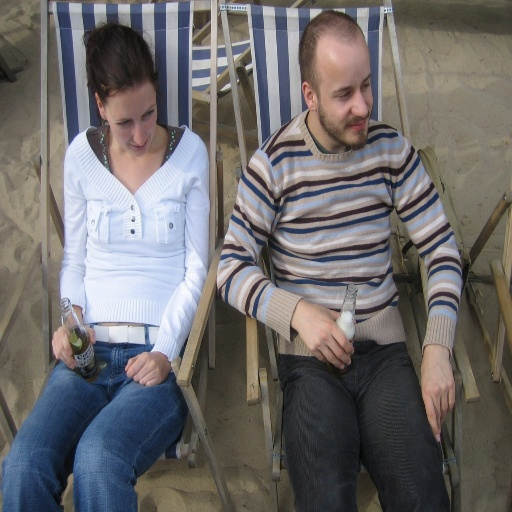hand: (419, 350, 455, 444), (300, 312, 352, 368), (51, 317, 96, 370), (124, 350, 172, 387)
